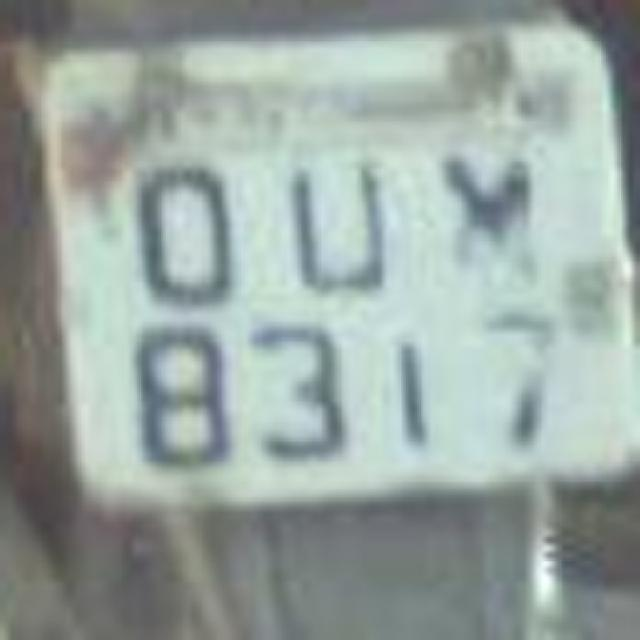1: (364, 325, 456, 460)
3: (224, 300, 371, 475)
7: (455, 284, 580, 464)
8: (115, 300, 240, 480)
O: (124, 144, 251, 311)
U: (272, 140, 416, 312)
Y: (432, 131, 552, 304)
